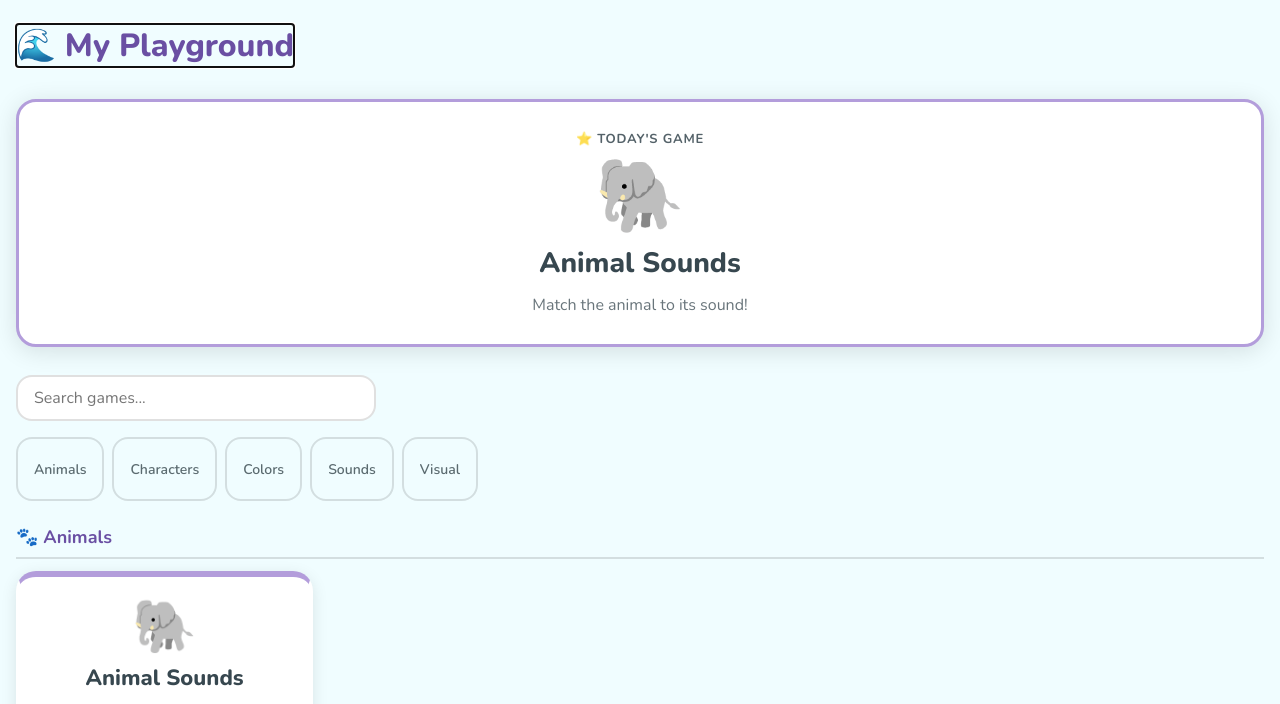
Test: Dashboard › searching with no match shows the no-results empty state (negative)
This screenshot has width=1280, height=704.
Type "zzz-nonexistent" into the search field at [196, 398], box [16,375,376,421]
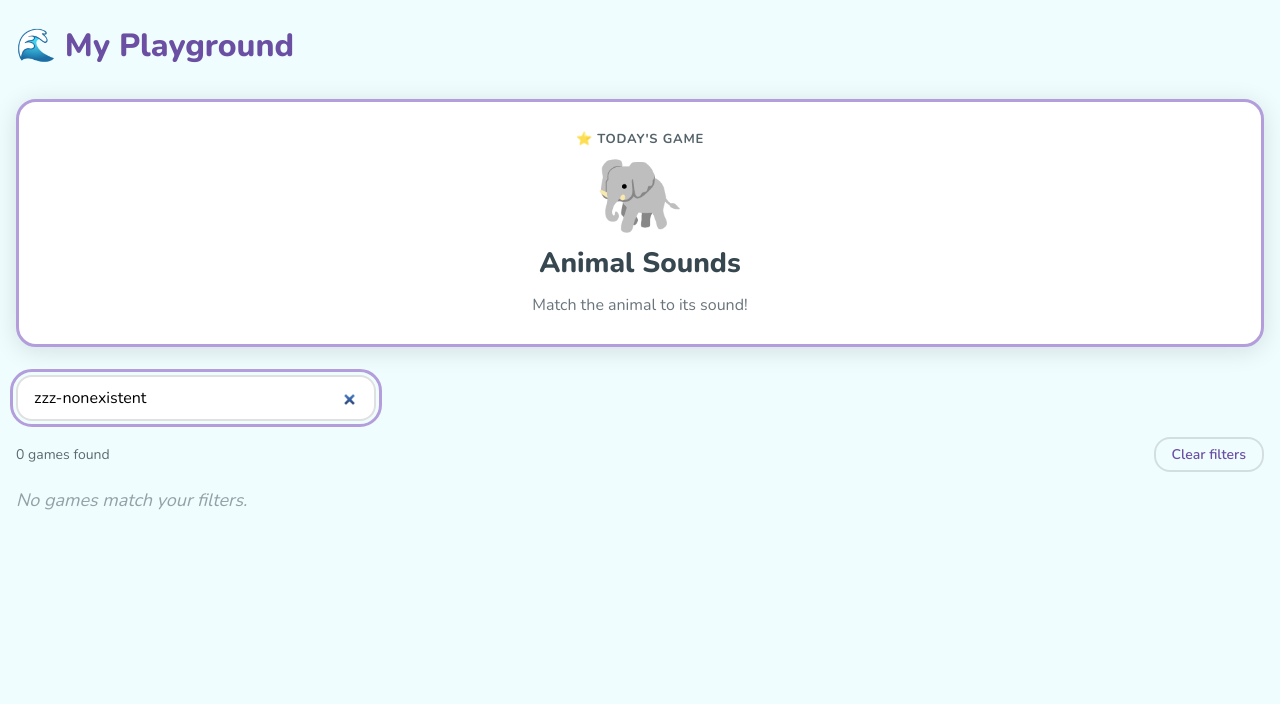
Now the text "No games match your filters." is shown, box [16,488,247,512]
